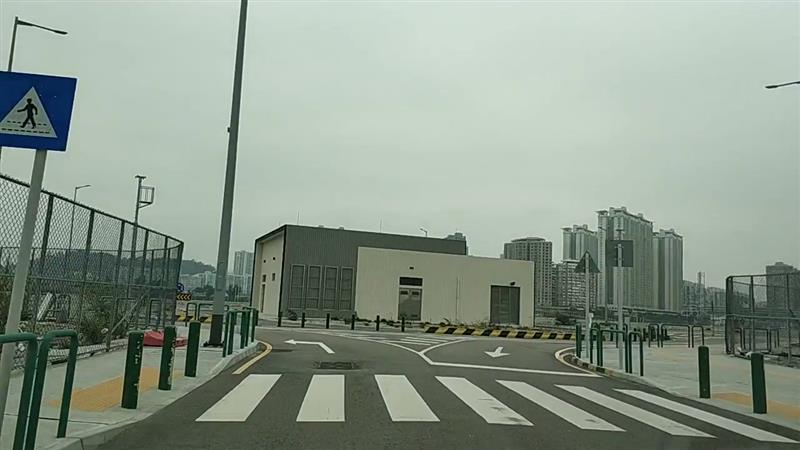pedestriansBlue: (1, 68, 78, 154)
roadDown: (483, 344, 511, 358)
roadTurnLeft: (283, 337, 335, 358)
